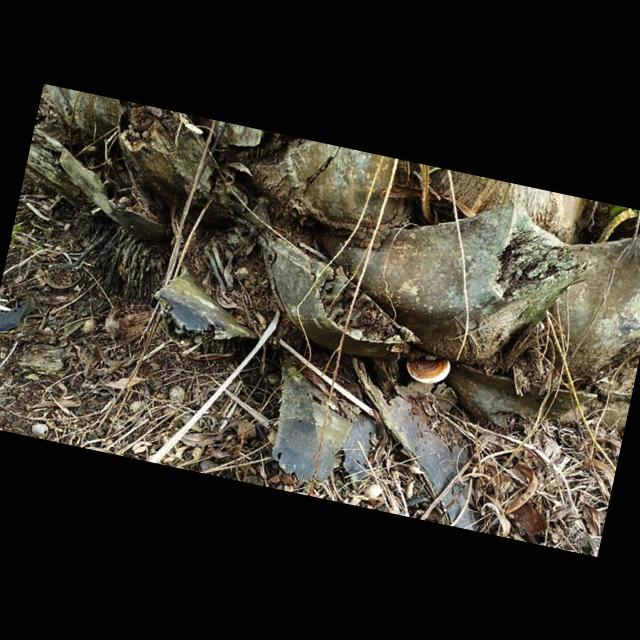ganoderma: (403, 349, 453, 390)
